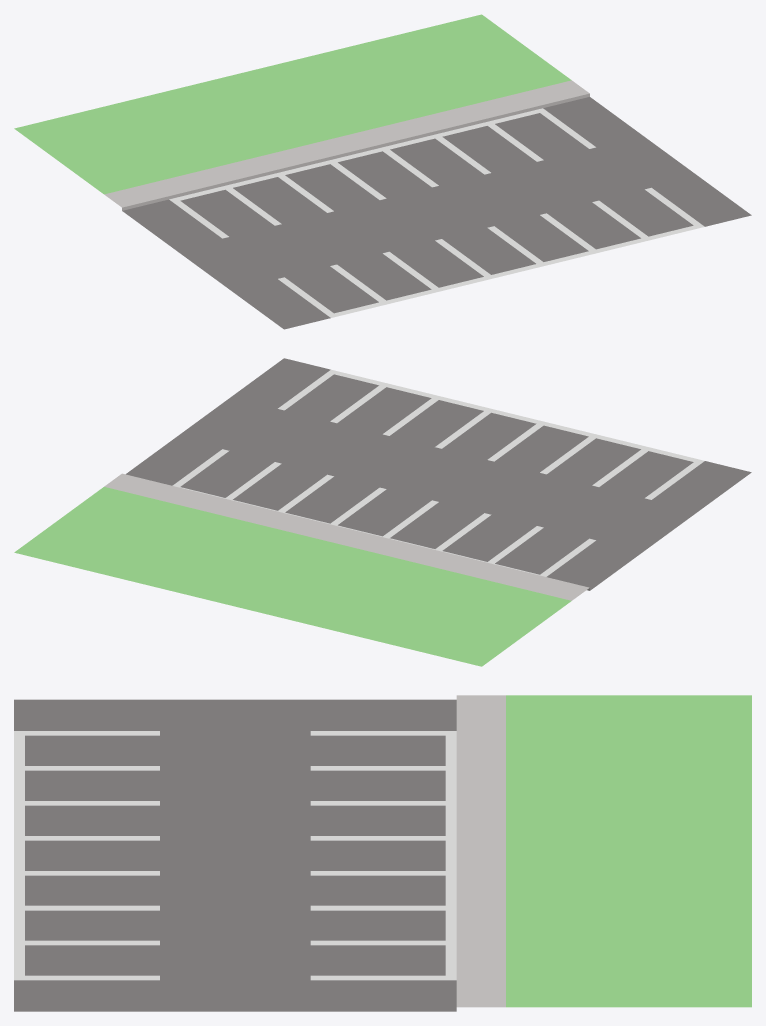
File: tile_parking_lot_side.fbx
3 views of the same model, one above another, from view 1: azimuth 30°, elevation 25°; view 2: azimuth 150°, elevation 25°; view 3: azimuth 270°, elevation 25° (orthographic). The views are drawn at different scales.
Parts seen in each view (by area): view 1: tile_road_intersection_t_nb.005; view 2: tile_road_intersection_t_nb.005; view 3: tile_road_intersection_t_nb.005.
Boxes of the visible parts, x1,y1,x2,y2 form: tile_road_intersection_t_nb.005: (14, 14, 751, 329); tile_road_intersection_t_nb.005: (14, 358, 751, 666); tile_road_intersection_t_nb.005: (14, 695, 751, 1011).
Bounding box in the file's own units: 3000 × 20 × 3000.
